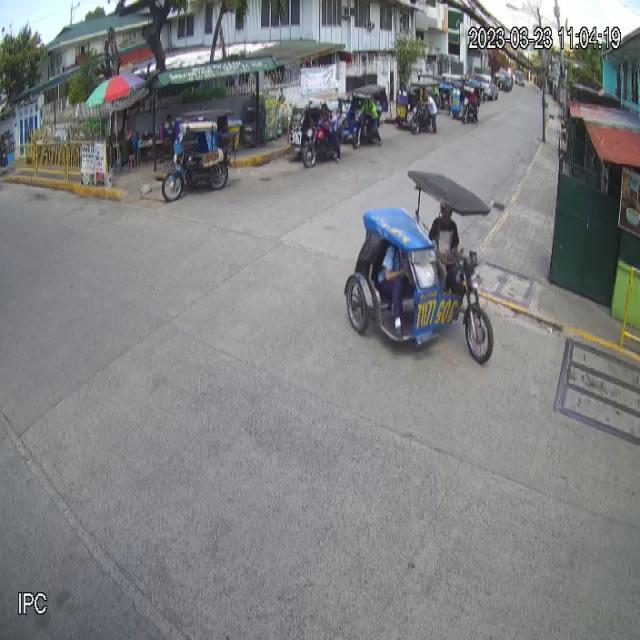Tricycle: (343, 168, 494, 366), (161, 107, 235, 203)
